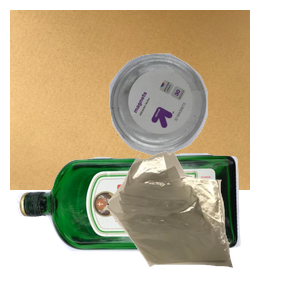cardboard: (10, 10, 250, 190)
glass: (14, 150, 247, 300)
plastic: (107, 51, 300, 199)
trash: (101, 148, 300, 300)
